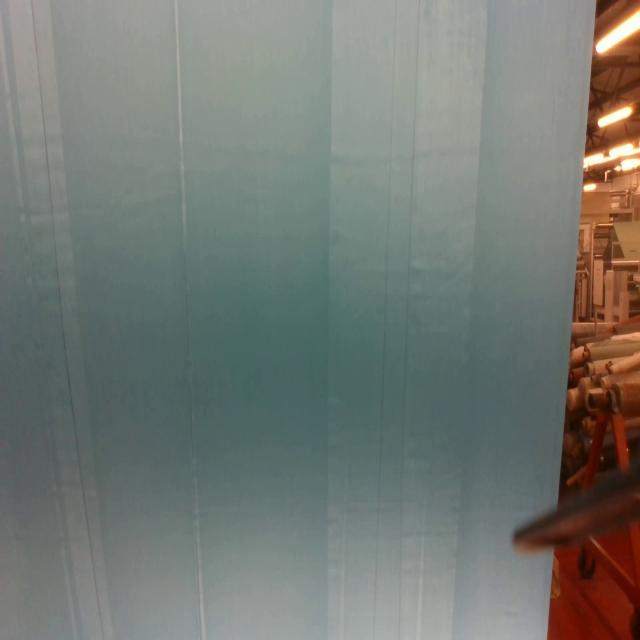crease: (31, 0, 107, 640), (173, 1, 206, 640), (373, 0, 399, 640), (397, 0, 422, 638)
